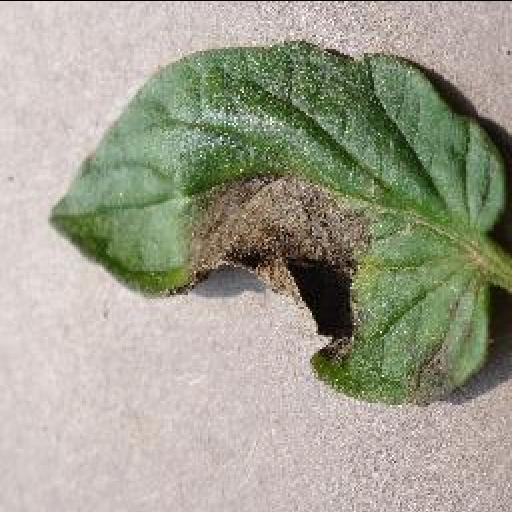disease_tomato: (42, 40, 512, 406)
